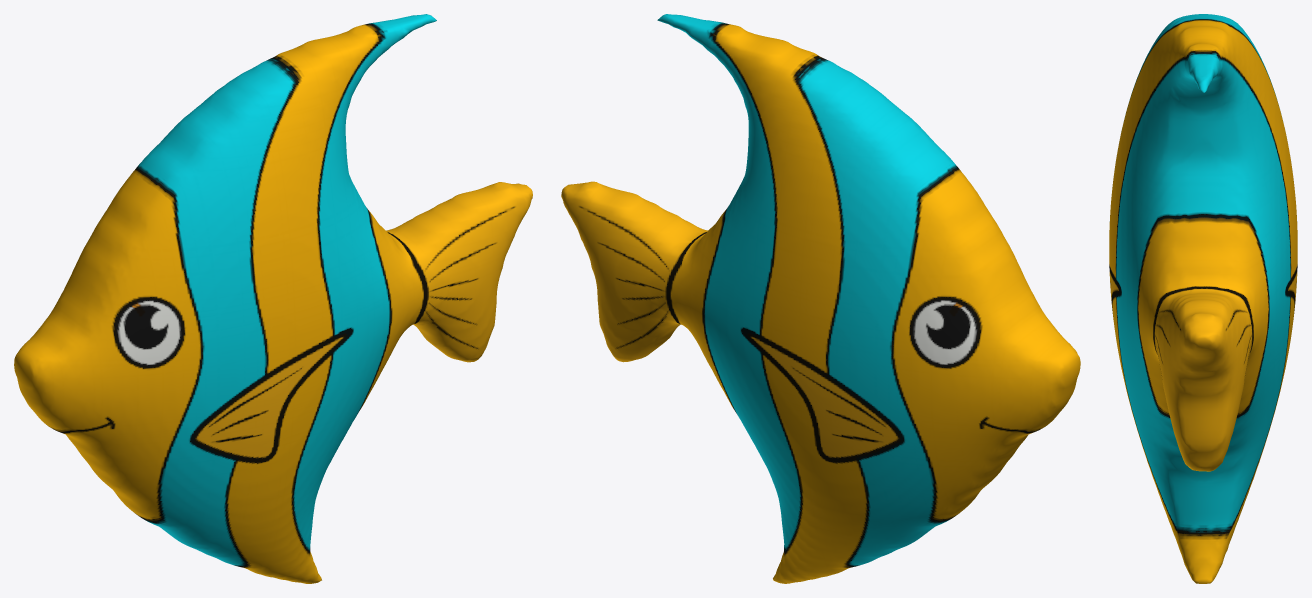
The model's file is angelfish.glb.
The picture shows the model from 3 angles, left to right: view 1: azimuth 30°, elevation 25°; view 2: azimuth 150°, elevation 25°; view 3: azimuth 270°, elevation 25°; orthographic projection. The views are drawn at different scales.
Parts seen in each view (by area): view 1: angelfish_Mesh; view 2: angelfish_Mesh; view 3: angelfish_Mesh.
Boxes of the visible parts, box(x1,y1,x2,y2) form: angelfish_Mesh: box(14, 14, 532, 583); angelfish_Mesh: box(561, 14, 1080, 583); angelfish_Mesh: box(1109, 14, 1297, 583).
Bounding box in the file's own units: 2.51 × 2.54 × 0.7742.
Materials: 1 (1 with a texture image).
